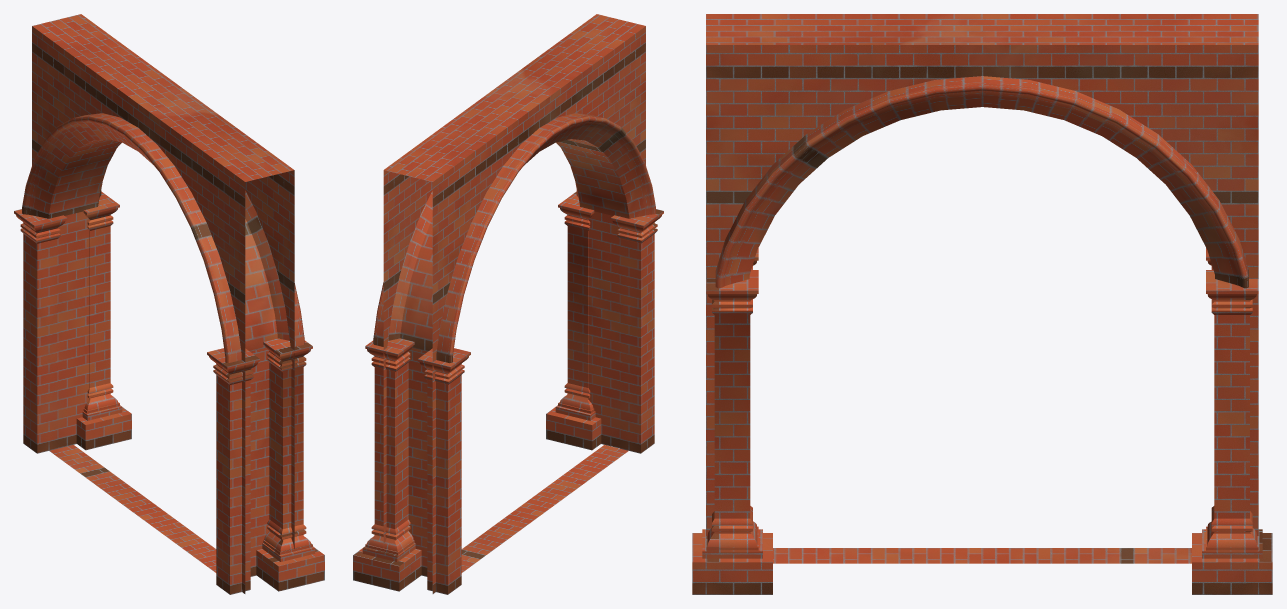
The model's file is MedievalDoor_02.fbx.
3 renders of one model, left to right at view 1: azimuth 30°, elevation 25°; view 2: azimuth 150°, elevation 25°; view 3: azimuth 270°, elevation 25°, orthographic. The views are drawn at different scales.
Visible parts, largest first — view 1: MedievalDoor; view 2: MedievalDoor; view 3: MedievalDoor.
Part boxes in pixels (<box>): MedievalDoor: <box>14,14,324,594</box>; MedievalDoor: <box>353,14,663,594</box>; MedievalDoor: <box>692,14,1272,594</box>.
Size of the model in its own units: 74.82 by 320 by 315.
